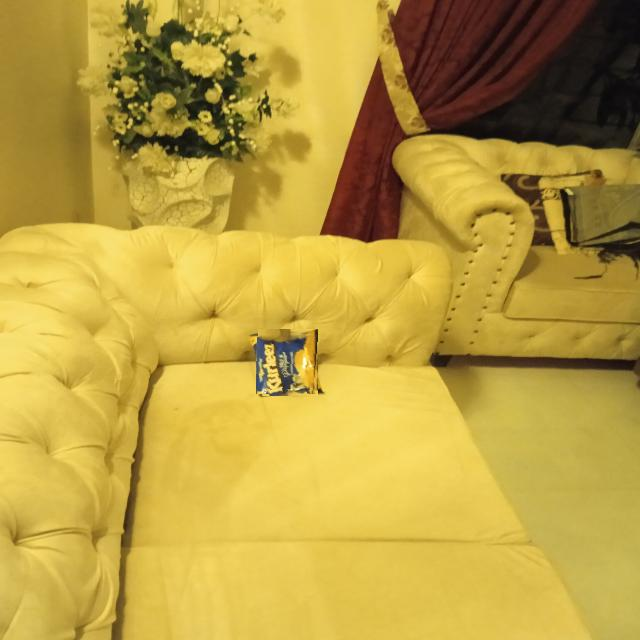Plastic: (256, 330, 320, 394)
